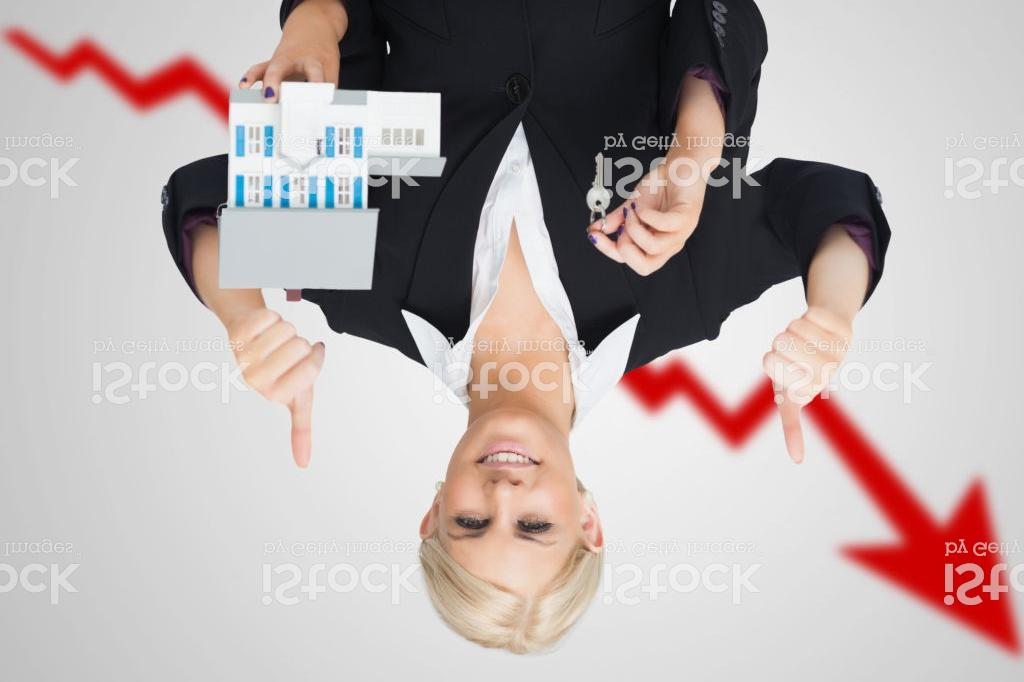thumbsdown: (227, 305, 330, 473), (757, 301, 856, 468)
